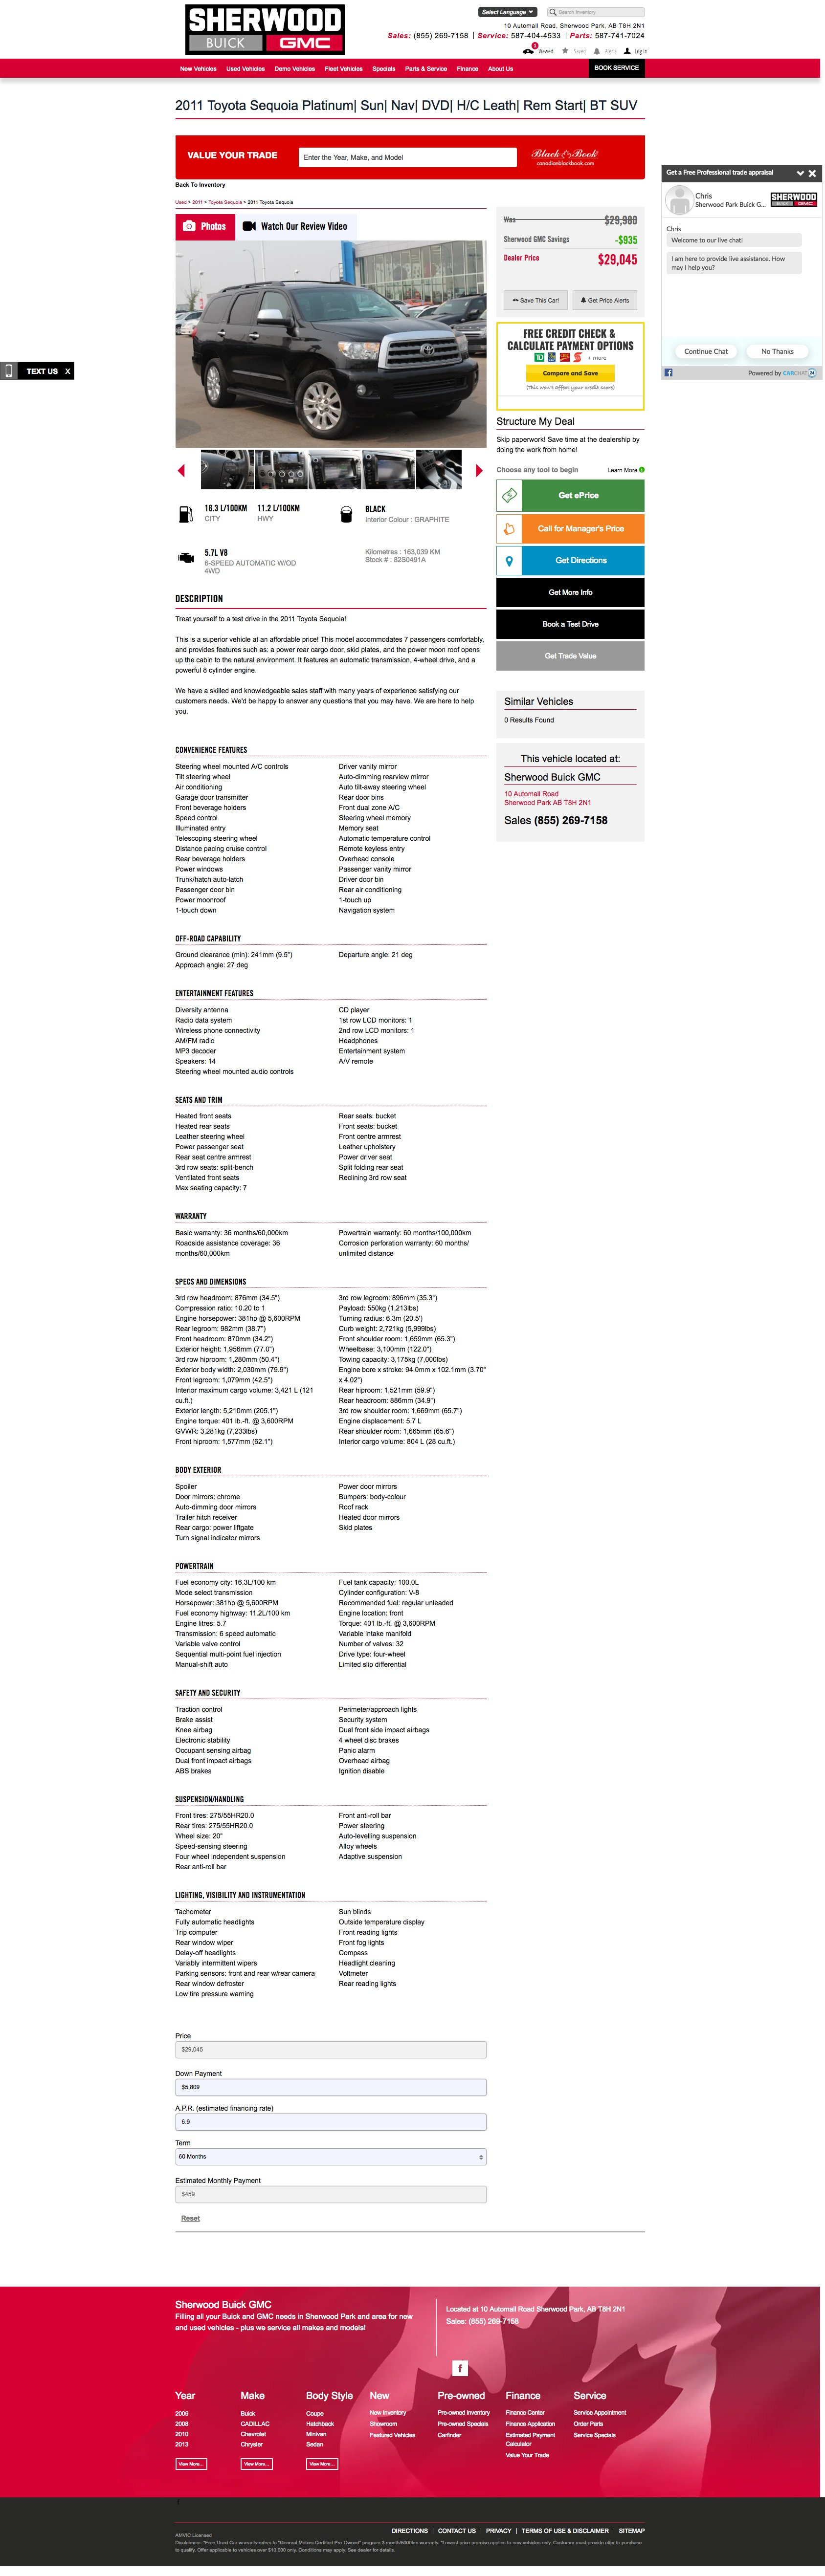car: (477, 463, 483, 478)
